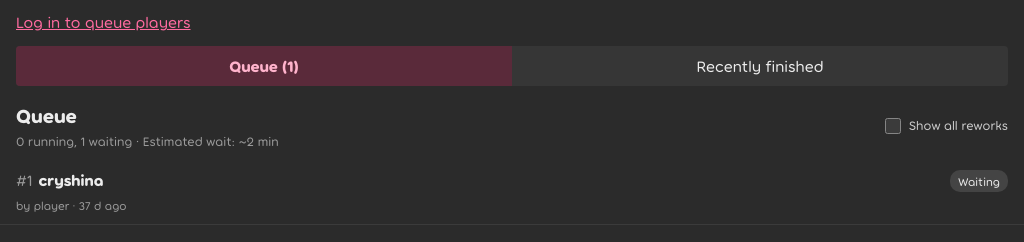
QueueTab › on a phone › keeps Show all variants with the queue
Expected: the text "cryshina" is shown, left=38, top=170, right=103, bottom=188
Expected: the checkbox labelled "Show all reworks" is shown, left=885, top=118, right=901, bottom=134
Click the radio button labelled "Recently finished".
click(760, 66)  # box left=512, top=46, right=1008, bottom=86
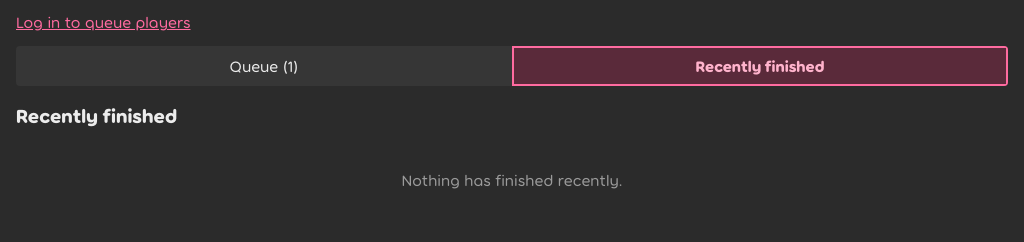
Now the label "Show all reworks" is gone
